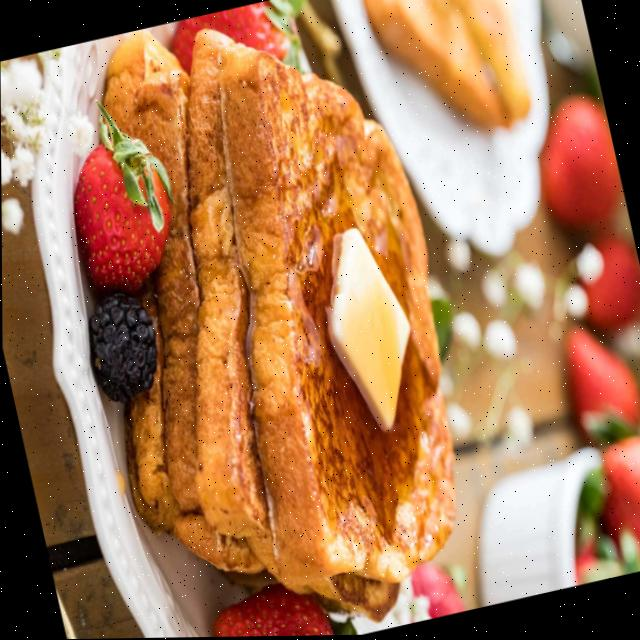Bread: (217, 46, 453, 592), (362, 0, 530, 130)
